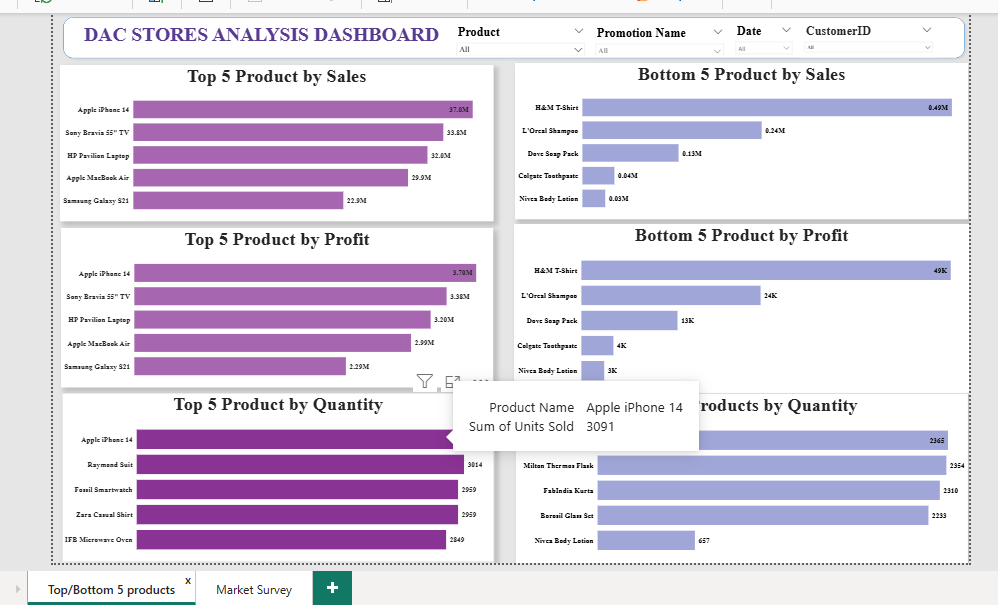

The dashboard page shown, as its layout file describes it:
{"tool":"powerbi","page":{"name":"Top/Bottom 5 products","canvas":[2000,1200],"ordinal":0},"visuals":[{"type":"shape","box":[12,0,1985.6,108],"z":0},{"type":"textbox","box":[22.4,17.6,865.6,67.2],"z":1000},{"type":"barChart","title":"Top 5 Product by Sales","fields":{"Category":["Dim Product.Product Name"],"Y":["Sum(Fact table.Net Sales)"]},"box":[14.4,112.8,945.6,340.8],"z":2000},{"type":"barChart","title":"Top 5 Product by Profit","fields":{"Category":["Dim Product.Product Name"],"Y":["Sum(Fact table.Profit)"]},"box":[16.8,468,943.2,348],"z":3000},{"type":"barChart","title":"Top 5 Product by Quantity","fields":{"Category":["Dim Product.Product Name"],"Y":["Sum(Fact table.Units Sold)"]},"box":[19.2,828,943.2,369.6],"z":4000},{"type":"barChart","title":"Bottom 5 Product by Sales","fields":{"Category":["Dim Product.Product Name"],"Y":["Sum(Fact table.Net Sales)"]},"box":[1008,108,988.8,340.8],"z":5000},{"type":"barChart","title":"Bottom 5 Product by Profit ","fields":{"Category":["Dim Product.Product Name"],"Y":["Sum(Fact table.Profit)"]},"box":[1006.4,460.8,993.6,369.6],"z":6000},{"type":"barChart","title":"Bottom Products by Quantity","fields":{"Category":["Dim Product.Product Name"],"Y":["Sum(Fact table.Units Sold)"]},"box":[1010.2,831.3,986.2,368.7],"z":7000},{"type":"slicer","fields":{"Values":["Dim Product.Product Name"]},"box":[871.2,21.6,300,72],"z":7001},{"type":"slicer","fields":{"Values":["Dim Promotion.Promotion Name"]},"box":[1173.6,24,300,69.6],"z":7002},{"type":"slicer","fields":{"Values":["Fact table.Date (dd/mm/yyyy)"]},"box":[1478.4,19.2,144,74.4],"z":7003},{"type":"slicer","fields":{"Values":["Fact table.CustomerID"]},"box":[1629.6,19.2,300,76.8],"z":7004}]}

Visuals, with their boxes on the page's 2000x1200 design canvas (x1, y1, x2, y2). These are canvas units, not pixel positions in the 998x605 screenshot, which may show the page scaled, cropped or inside an application window:
shape: <box>12,0,1998,108</box>
textbox: <box>22,18,888,85</box>
"Top 5 Product by Sales" barChart: <box>14,113,960,454</box>
"Top 5 Product by Profit" barChart: <box>17,468,960,816</box>
"Top 5 Product by Quantity" barChart: <box>19,828,962,1198</box>
"Bottom 5 Product by Sales" barChart: <box>1008,108,1997,449</box>
"Bottom 5 Product by Profit " barChart: <box>1006,461,2000,830</box>
"Bottom Products by Quantity" barChart: <box>1010,831,1996,1200</box>
slicer - Dim Product.Product Name: <box>871,22,1171,94</box>
slicer - Dim Promotion.Promotion Name: <box>1174,24,1474,94</box>
slicer - Fact table.Date (dd/mm/yyyy): <box>1478,19,1622,94</box>
slicer - Fact table.CustomerID: <box>1630,19,1930,96</box>
